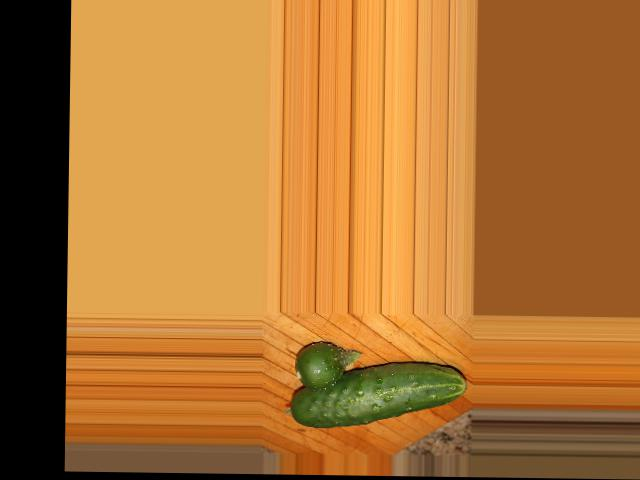cucumber: (289, 360, 467, 429)
